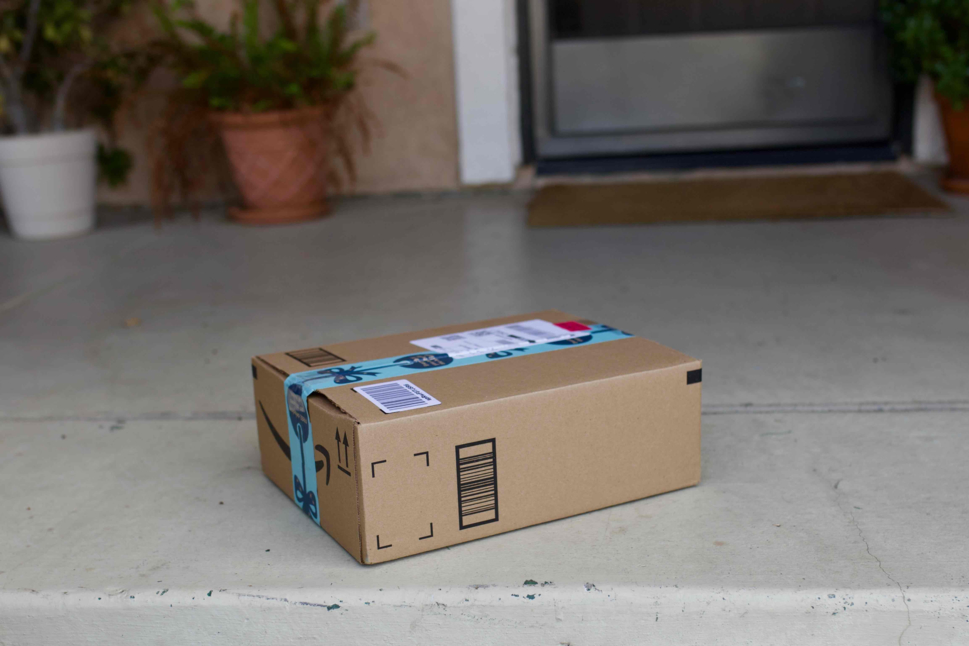package: (247, 307, 708, 571)
